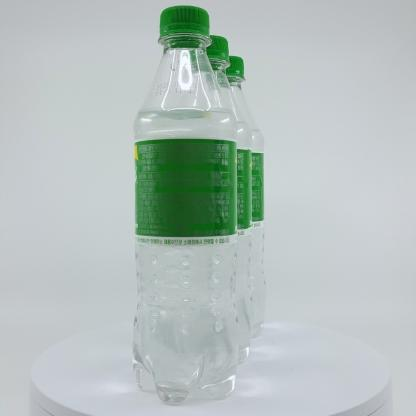-------500ML: (132, 5, 239, 403)
